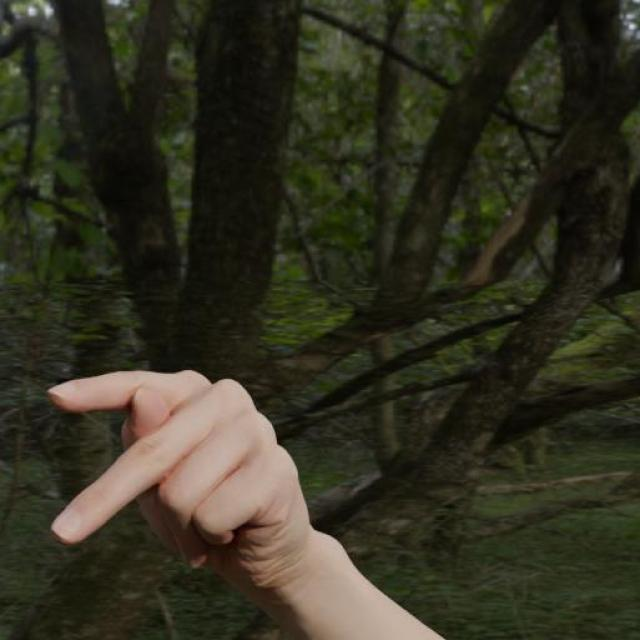P: (27, 344, 330, 624)
